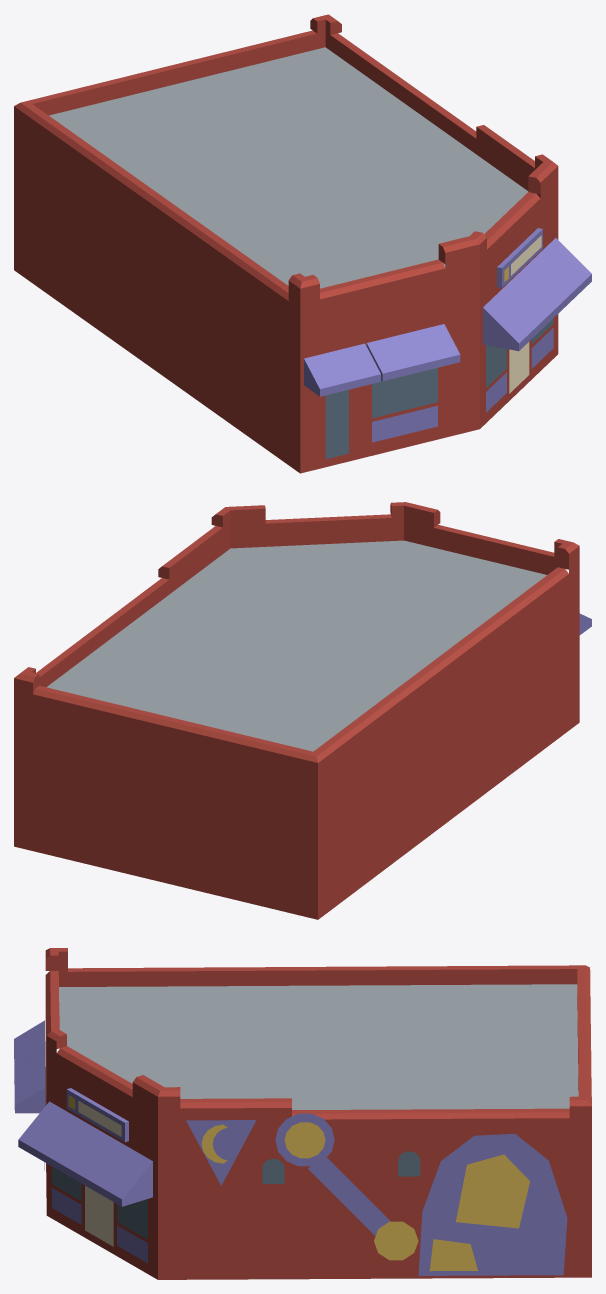
Rendered from evening-muse.glb.
3 renders of one model, top to bottom at view 1: azimuth 30°, elevation 25°; view 2: azimuth 150°, elevation 25°; view 3: azimuth 270°, elevation 25°, orthographic. The views are drawn at different scales.
Visible parts, largest first — view 1: The Evening Muse; view 2: The Evening Muse; view 3: The Evening Muse.
Boxes of the visible parts, <box> form: The Evening Muse: <box>14,14,591,473</box>; The Evening Muse: <box>14,502,591,919</box>; The Evening Muse: <box>14,948,591,1279</box>.
Bounding box in the file's own units: 10.18 × 5.55 × 15.53.
